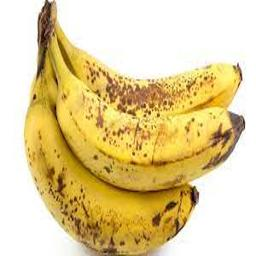Banana Semifresh: (53, 69, 246, 191)
Banana Semirotten: (20, 92, 247, 256), (49, 24, 248, 117)
